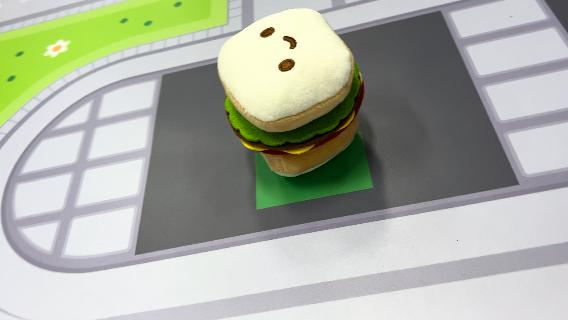sandwich: (215, 8, 368, 178)
